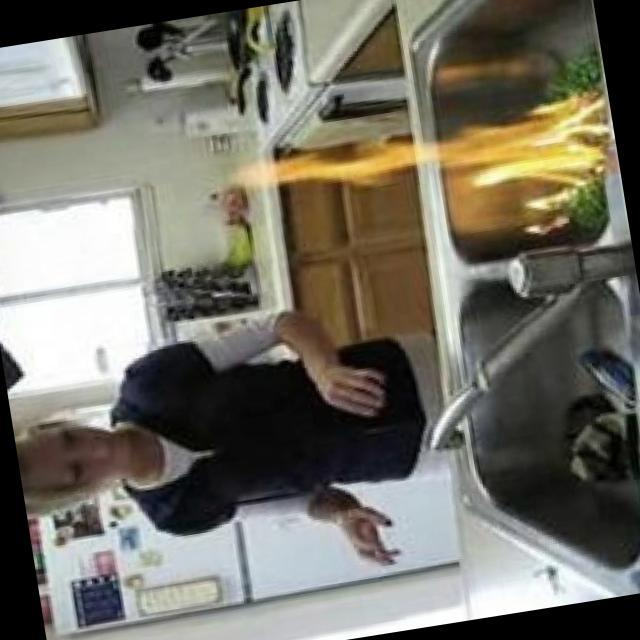Fire: (225, 88, 622, 238), (518, 185, 599, 240)
